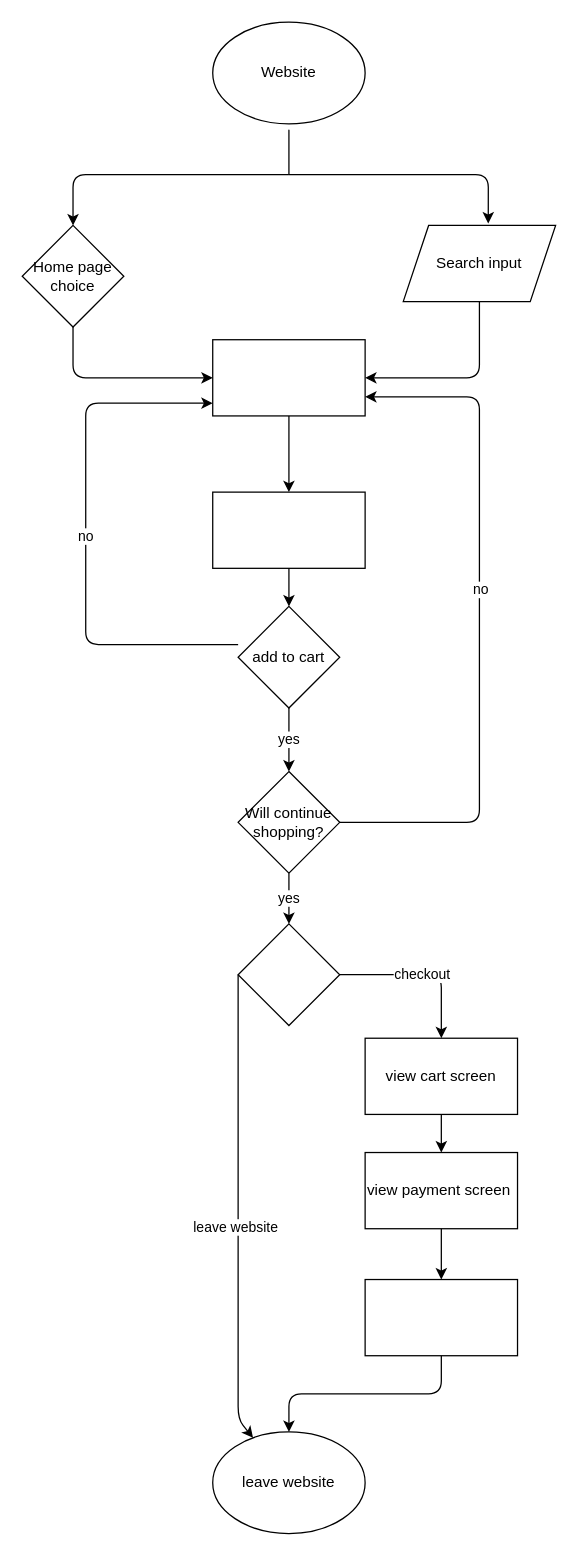
Image size: 578x1556. Some labels were removed from this diagram. Here are the shapes that lost their labels. From the top down, the centre of each, then its label:
At pixel 288 377: "look over products".
At pixel 288 529: "Specific product page".
At pixel 288 974: "leave website or checkout".
At pixel 441 1317: "order confirmation screen, email confirmation".
